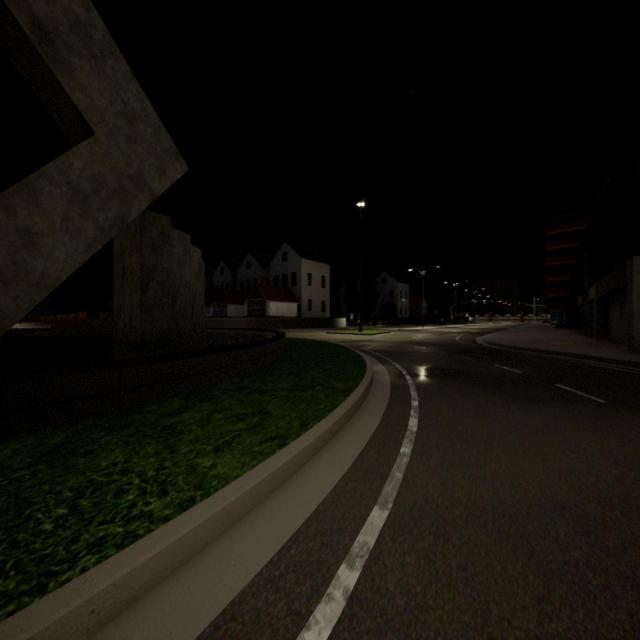traffic_light: (509, 303, 512, 305), (518, 302, 520, 304)
